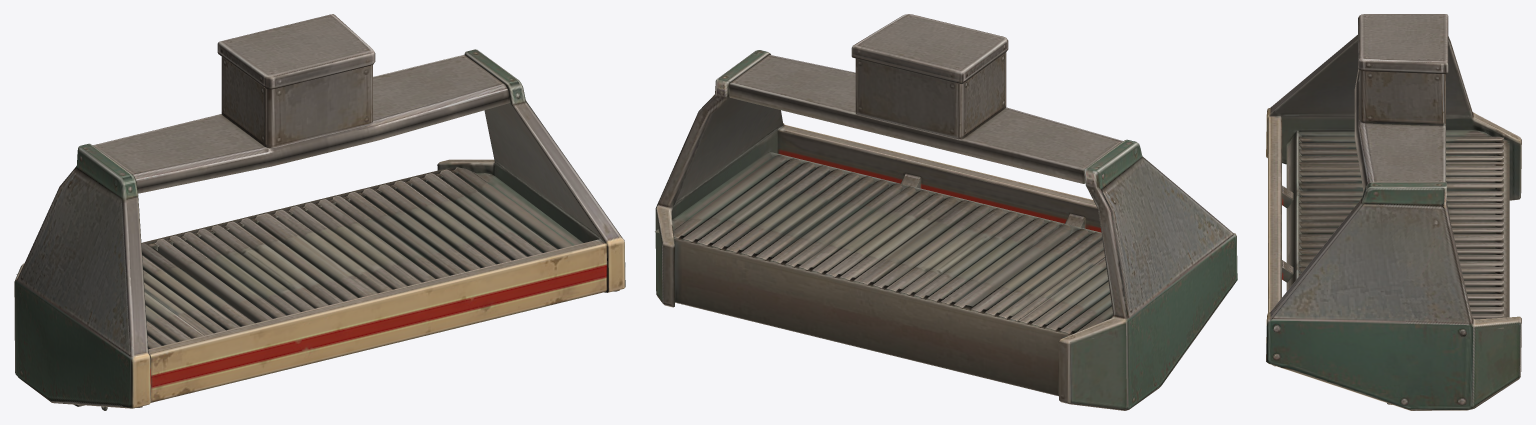
File: P21_extractor_hood_Runtime_1k.glb
3 views of the same model, side by side, from view 1: azimuth 30°, elevation 25°; view 2: azimuth 150°, elevation 25°; view 3: azimuth 270°, elevation 25° (orthographic). The views are drawn at different scales.
Parts seen in each view (by area): view 1: tripo_node_ce316117; view 2: tripo_node_ce316117; view 3: tripo_node_ce316117.
Part boxes in pixels (x1=…): tripo_node_ce316117: x1=14, y1=14, x2=625, y2=410; tripo_node_ce316117: x1=655, y1=14, x2=1237, y2=410; tripo_node_ce316117: x1=1266, y1=14, x2=1521, y2=410.
Size of the model in its own units: 1.5 by 0.89 by 0.7554.
1 material, 1 textured.
